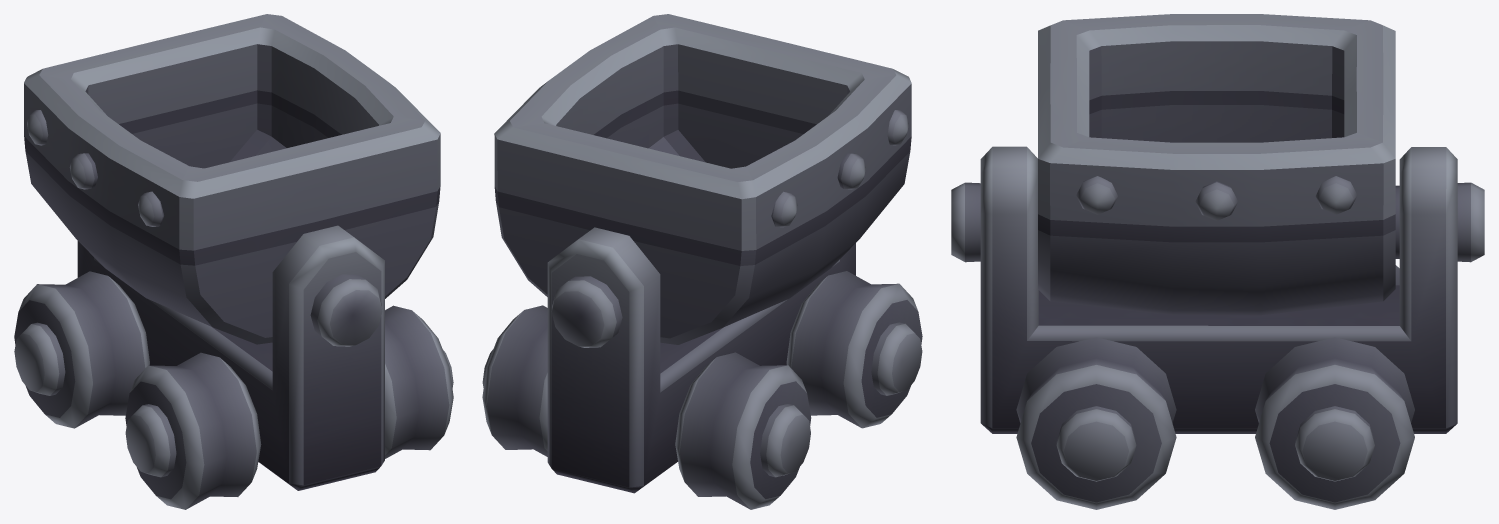
Rendered from elf_minecart.fbx.
3 views of the same model, side by side, from view 1: azimuth 30°, elevation 25°; view 2: azimuth 150°, elevation 25°; view 3: azimuth 270°, elevation 25° (orthographic). The views are drawn at different scales.
Visible parts, largest first — view 1: elf_minecart; view 2: elf_minecart; view 3: elf_minecart.
Part boxes in pixels (x1,y1,x2,y2): elf_minecart: (14,14,453,509); elf_minecart: (482,14,922,509); elf_minecart: (951,14,1484,509).
Size of the model in its own units: 135 by 134 by 180.
